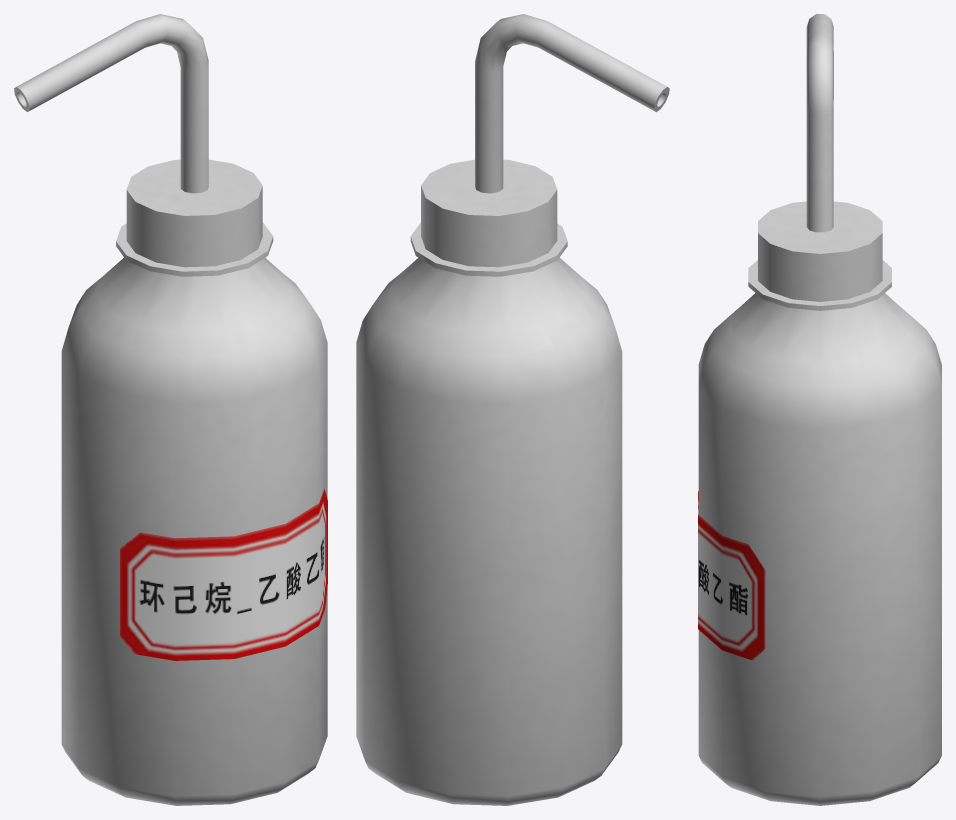
Rendered from SM_环己烷_乙酸乙酯.fbx.
The picture shows the model from 3 angles, left to right: view 1: azimuth 30°, elevation 25°; view 2: azimuth 150°, elevation 25°; view 3: azimuth 270°, elevation 25°; orthographic projection. The views are drawn at different scales.
Visible parts, largest first — view 1: SM_环己烷_乙酸乙酯; view 2: SM_环己烷_乙酸乙酯; view 3: SM_环己烷_乙酸乙酯.
Part boxes in pixels (bbox=[...]): SM_环己烷_乙酸乙酯: bbox=[14, 14, 327, 805]; SM_环己烷_乙酸乙酯: bbox=[356, 14, 669, 805]; SM_环己烷_乙酸乙酯: bbox=[698, 14, 941, 805].
Size of the model in its own units: 0.0866 by 0.213 by 0.067.
